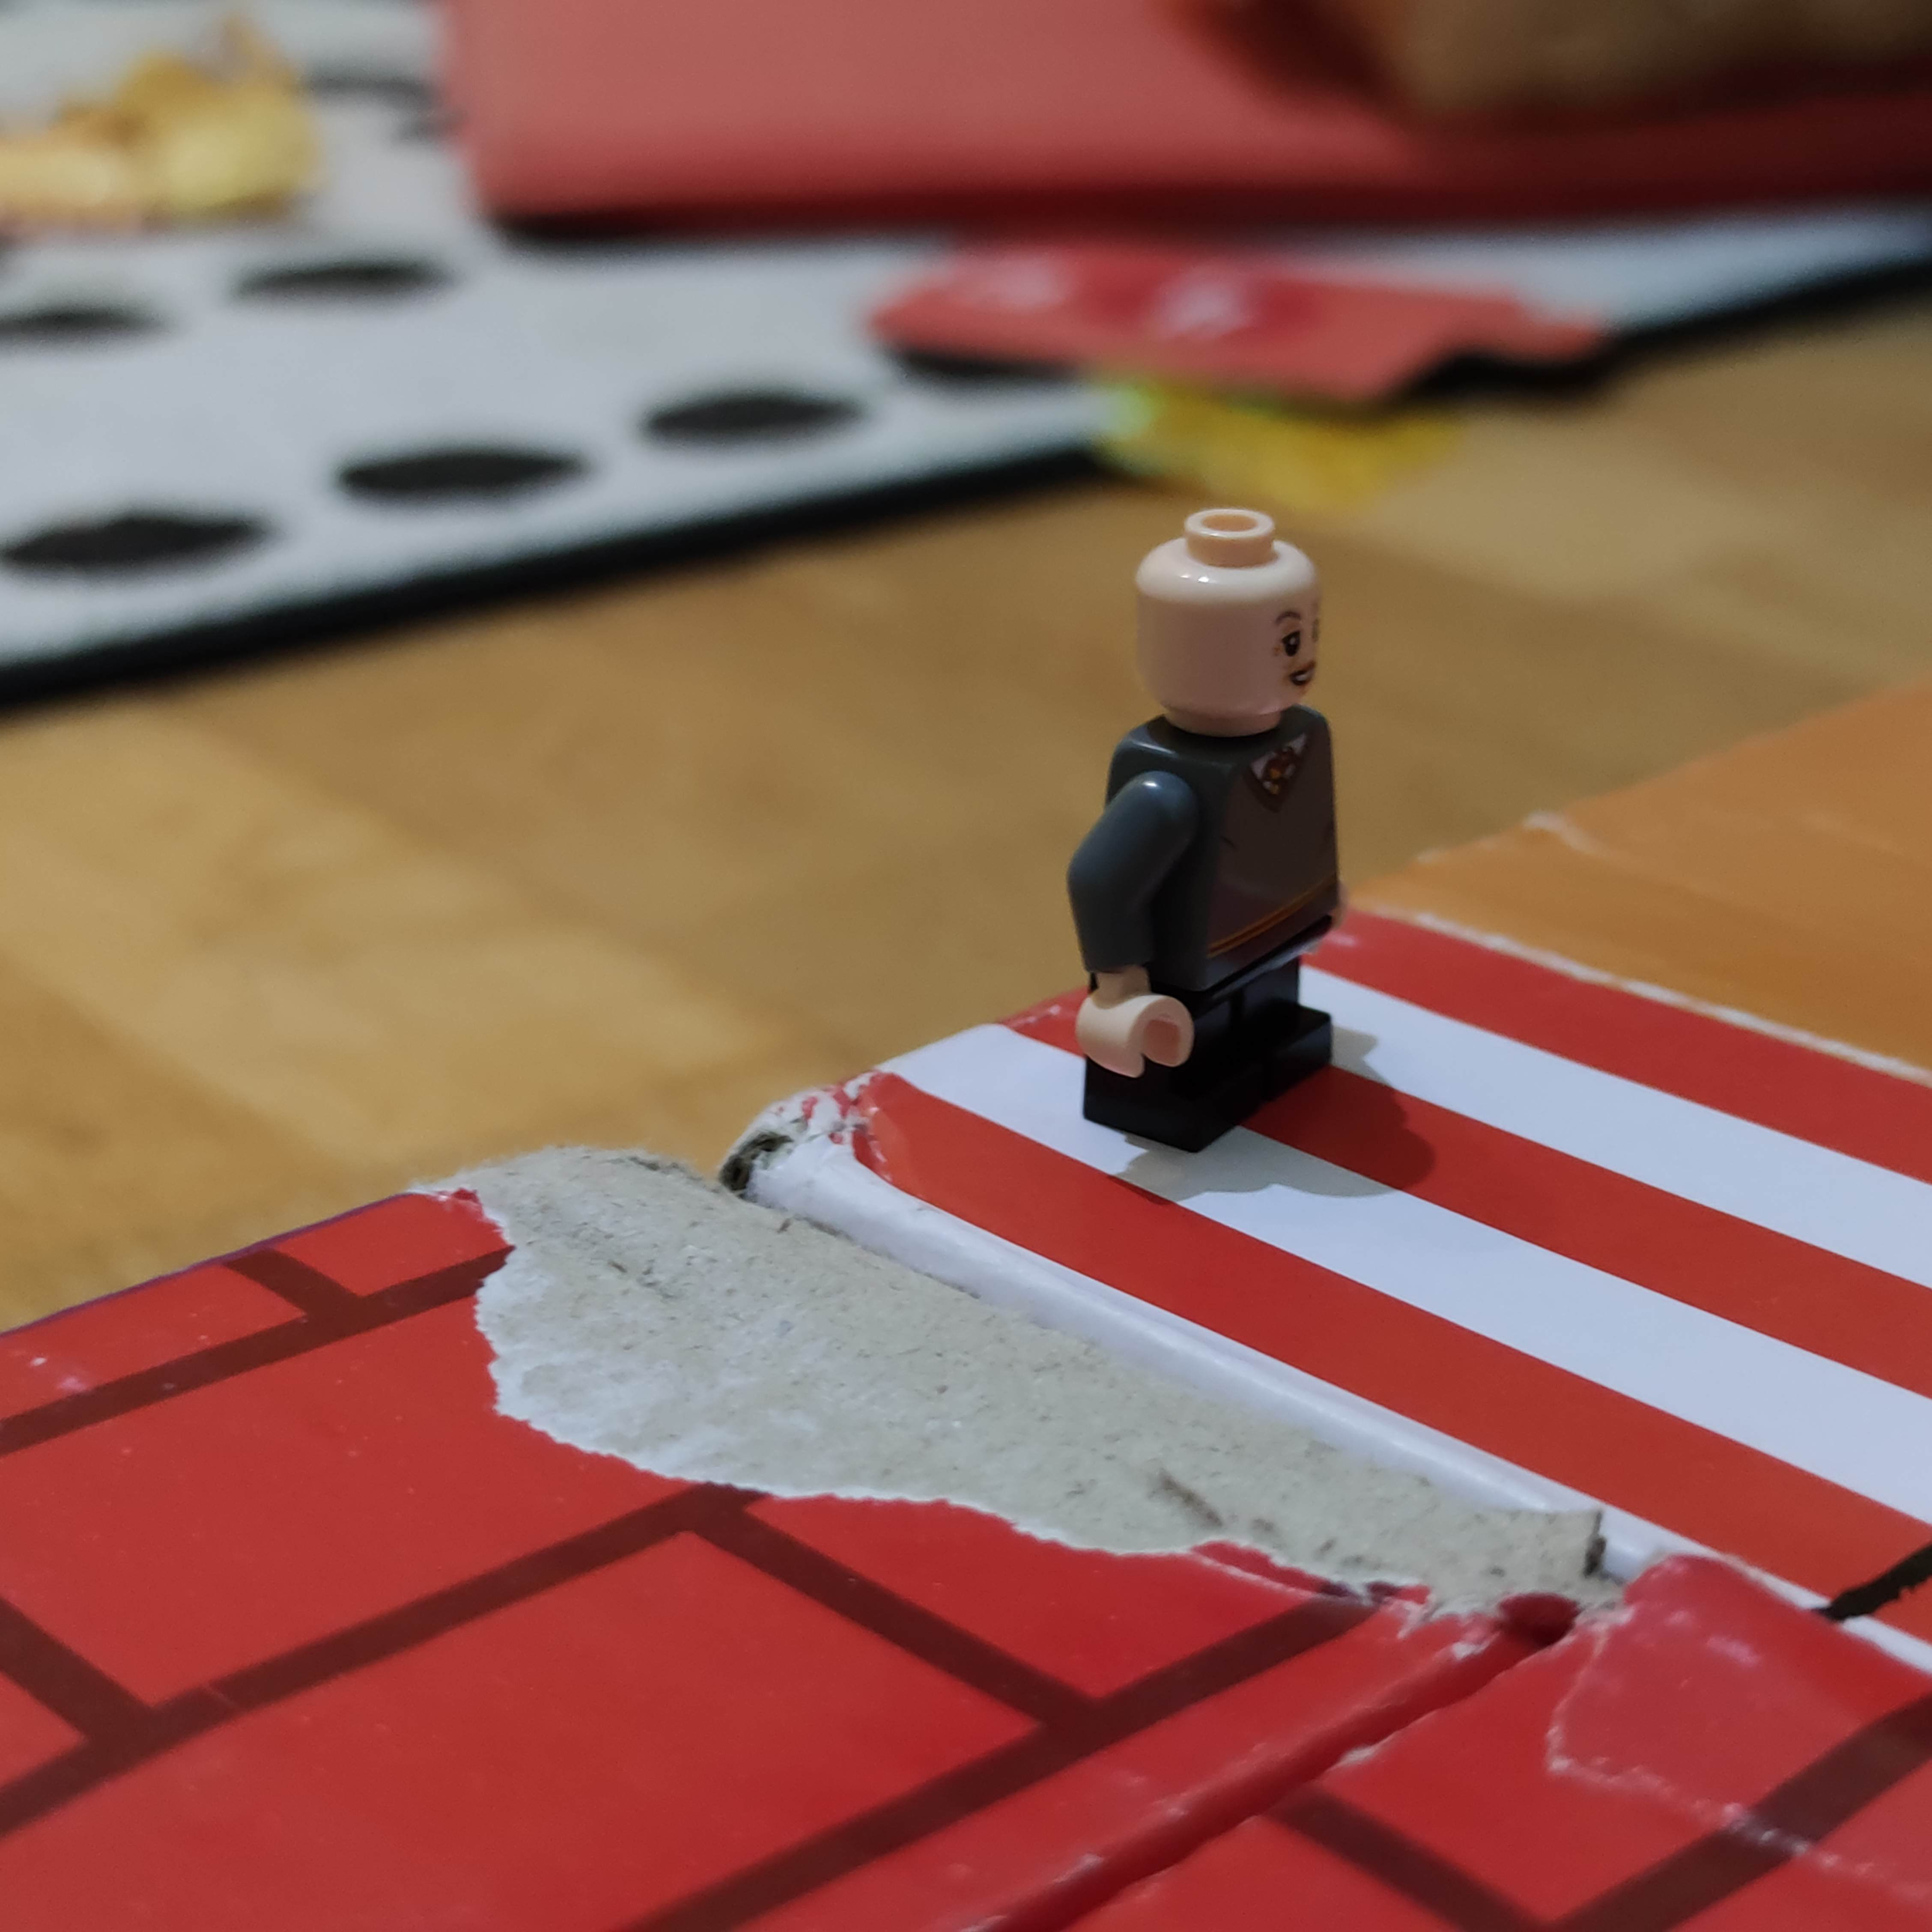lego: (1065, 497, 1357, 1150)
